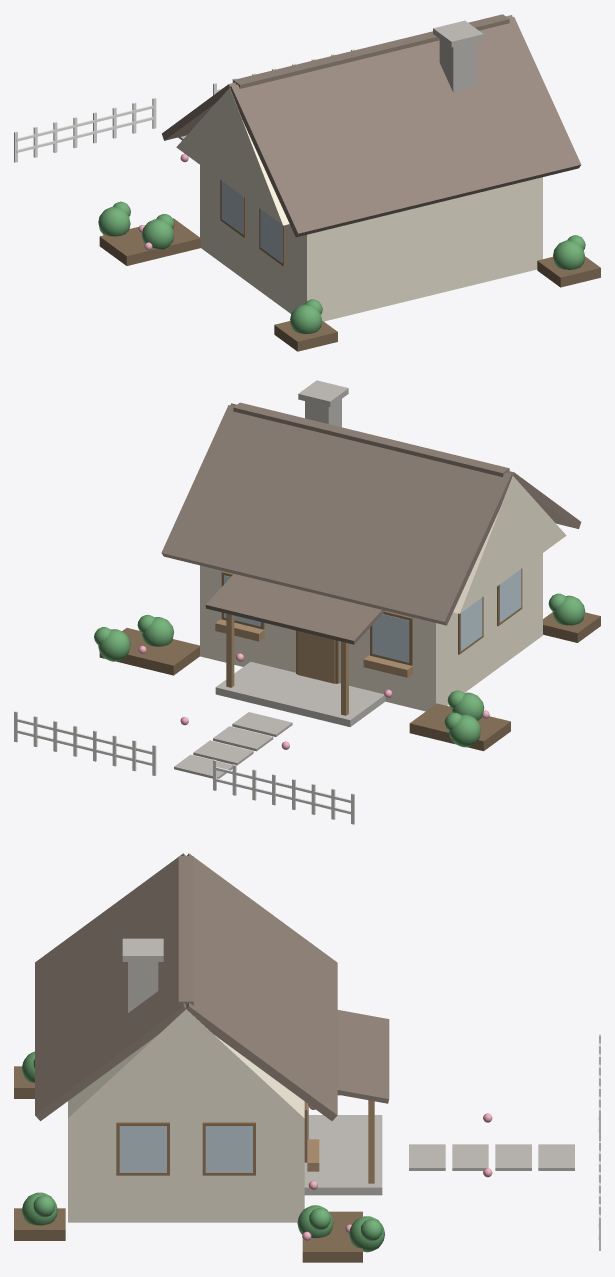
The model's file is rumah-cottage-v1.glb.
3 renders of one model, top to bottom at view 1: azimuth 30°, elevation 25°; view 2: azimuth 150°, elevation 25°; view 3: azimuth 270°, elevation 25°, orthographic. The views are drawn at different scales.
Visible parts, largest first — view 1: ShingleRoof, Walls, GardenSoil, Plants, Chimney, PicketFence, Glass, WoodTrim; view 2: ShingleRoof, Walls, PorchBase, PorchRoof, GardenSoil, Plants, WoodTrim, PicketFence, Glass, Path, Chimney; view 3: ShingleRoof, Walls, PorchBase, Glass, PorchRoof, Path, GardenSoil, Plants, Chimney, WoodTrim, PicketFence.
Part boxes in pixels (bbox=[...]): ShingleRoof: bbox=[162, 14, 581, 237]; Walls: bbox=[176, 88, 542, 321]; GardenSoil: bbox=[99, 218, 600, 351]; Plants: bbox=[98, 201, 585, 333]; Chimney: bbox=[433, 20, 483, 92]; PicketFence: bbox=[14, 49, 354, 162]; Glass: bbox=[221, 181, 282, 262]; WoodTrim: bbox=[220, 180, 284, 266]; ShingleRoof: bbox=[161, 402, 581, 625]; Walls: bbox=[200, 476, 566, 711]; PorchBase: bbox=[215, 613, 385, 727]; PorchRoof: bbox=[205, 574, 384, 644]; GardenSoil: bbox=[99, 612, 600, 751]; Plants: bbox=[94, 593, 585, 747]; WoodTrim: bbox=[215, 568, 522, 683]; PicketFence: bbox=[14, 711, 354, 824]; Glass: bbox=[224, 569, 521, 662]; Path: bbox=[174, 712, 292, 778]; Chimney: bbox=[298, 380, 348, 427]; ShingleRoof: bbox=[35, 853, 337, 1121]; Walls: bbox=[68, 1009, 304, 1222]; PorchBase: bbox=[304, 1100, 382, 1195]; Glass: bbox=[119, 1103, 307, 1172]; PorchRoof: bbox=[337, 1010, 389, 1103]; Path: bbox=[409, 1144, 574, 1170]; GardenSoil: bbox=[14, 1066, 362, 1262]; Plants: bbox=[21, 1051, 384, 1252]; Chimney: bbox=[122, 938, 163, 1012]; WoodTrim: bbox=[116, 1101, 319, 1175]; PicketFence: bbox=[598, 1034, 600, 1250].
Size of the model in its own units: 11.41 by 6.36 by 13.63.
